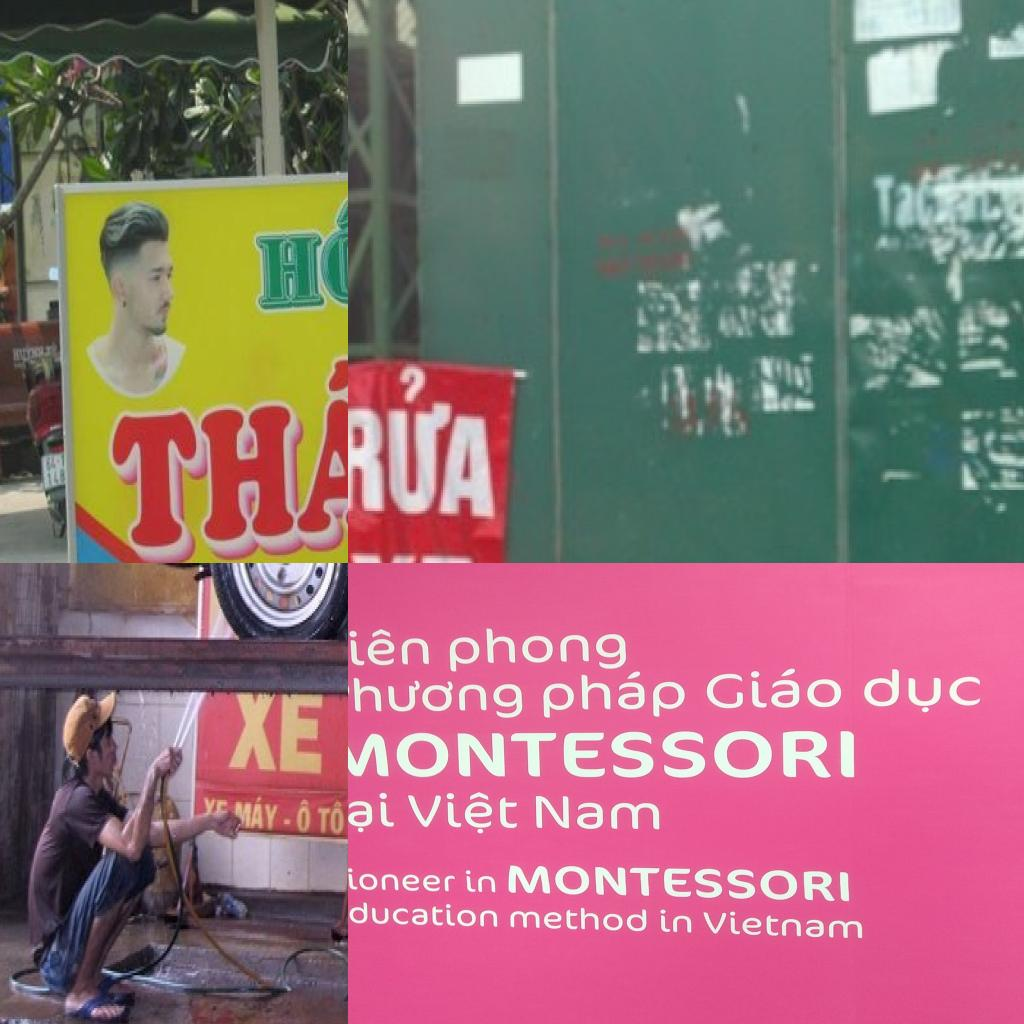text: (98, 341, 348, 563), (348, 728, 857, 780), (348, 356, 503, 526), (506, 863, 852, 903), (248, 195, 348, 316), (446, 623, 628, 673), (227, 692, 325, 778), (348, 674, 525, 719), (539, 668, 688, 719), (704, 665, 844, 711), (861, 666, 983, 714), (404, 791, 520, 835), (532, 794, 663, 832), (348, 901, 499, 928), (508, 906, 649, 932), (348, 626, 431, 667), (348, 866, 455, 893), (348, 789, 398, 833), (234, 793, 282, 833), (318, 798, 344, 837), (660, 907, 694, 934), (464, 868, 498, 894), (298, 797, 314, 835), (44, 468, 66, 490), (41, 454, 62, 473), (282, 818, 292, 828)
